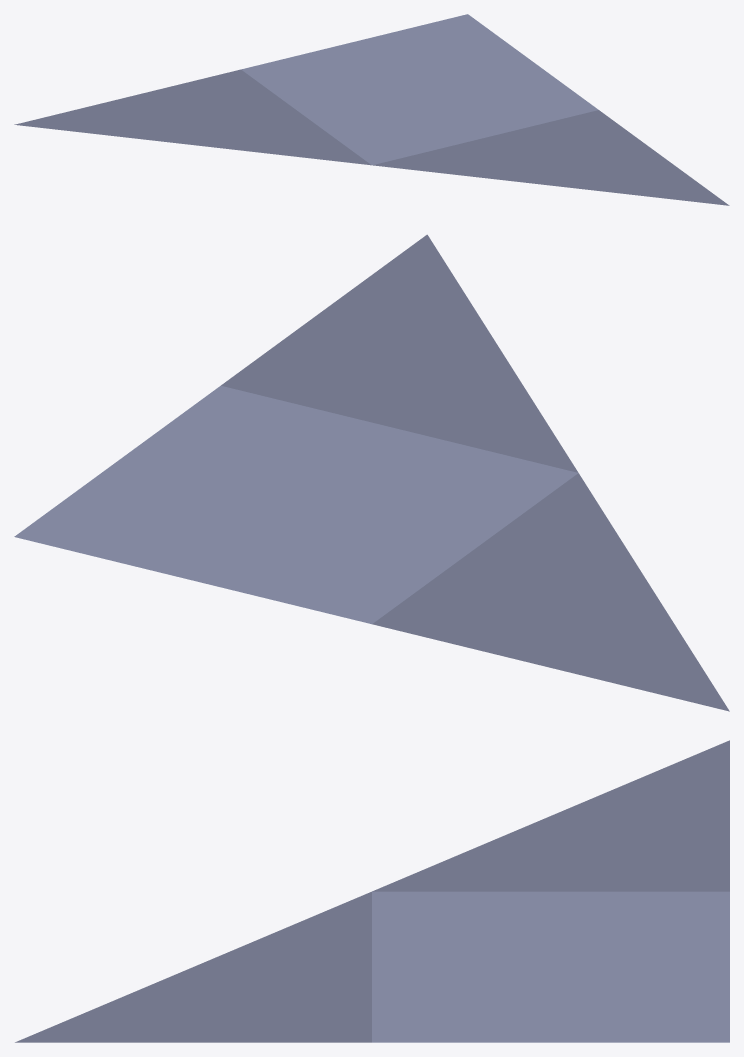
The model's file is floor-diagonal.glb.
The picture shows the model from 3 angles, top to bottom: view 1: azimuth 30°, elevation 25°; view 2: azimuth 150°, elevation 25°; view 3: azimuth 270°, elevation 25°; orthographic projection. The views are drawn at different scales.
Visible parts, largest first — view 1: floor-diagonal; view 2: floor-diagonal; view 3: floor-diagonal.
Boxes of the visible parts, box(x1,y1,x2,y2) form: floor-diagonal: box(14, 14, 729, 205); floor-diagonal: box(14, 234, 729, 711); floor-diagonal: box(15, 740, 729, 1042).
Bounding box in the file's own units: 1 × 0 × 1.
1 material, 1 textured.
